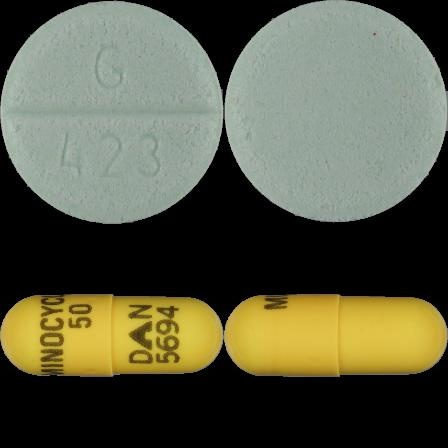50268-566: (0, 0, 224, 224)
